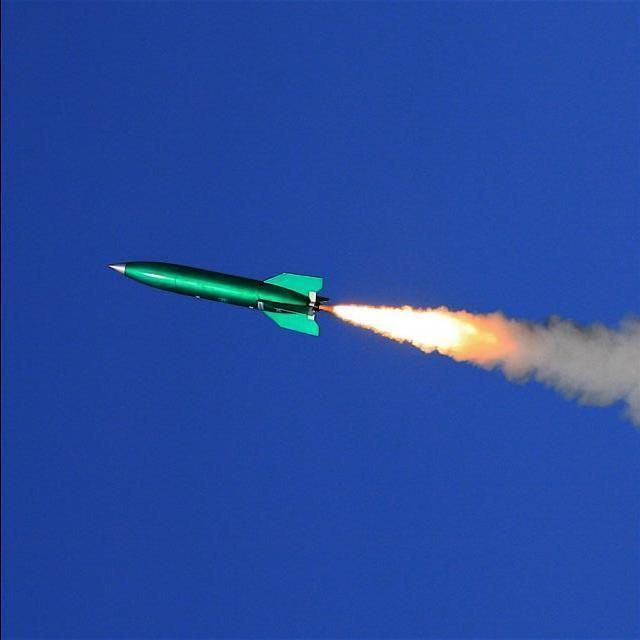missile: (103, 250, 337, 360)
